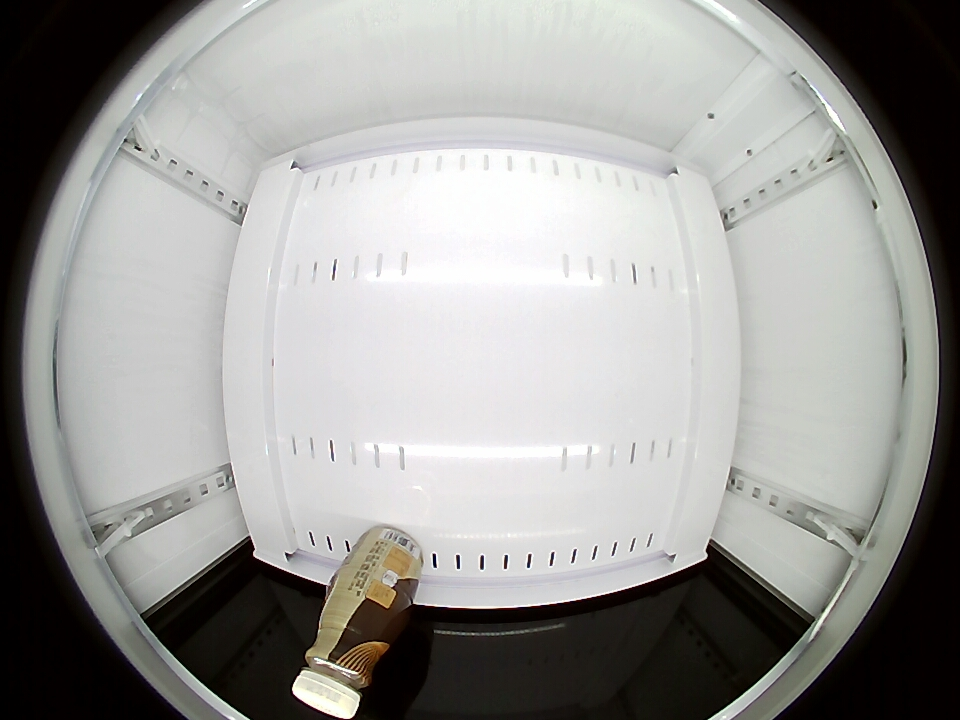kafei: (293, 603, 393, 720)
